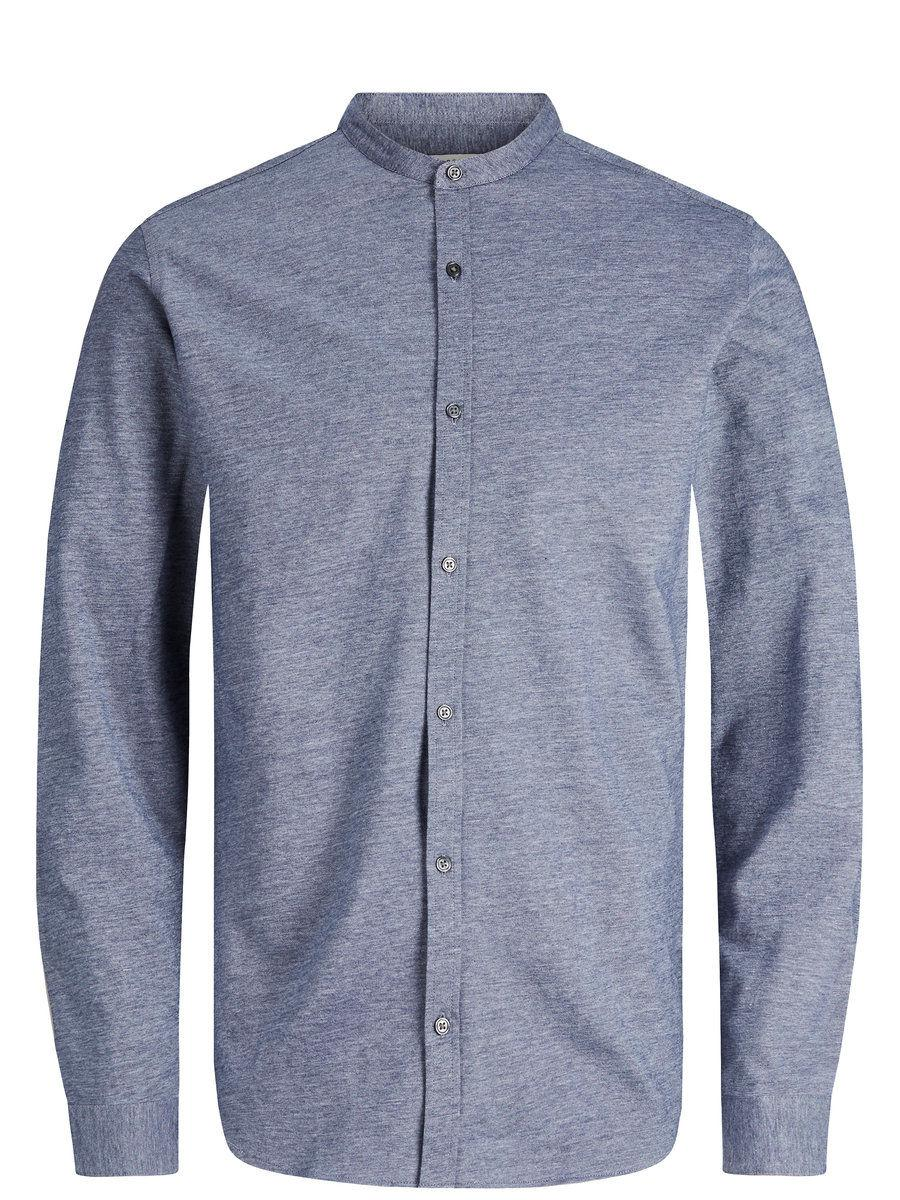teeshirt: (20, 76, 854, 1200)
